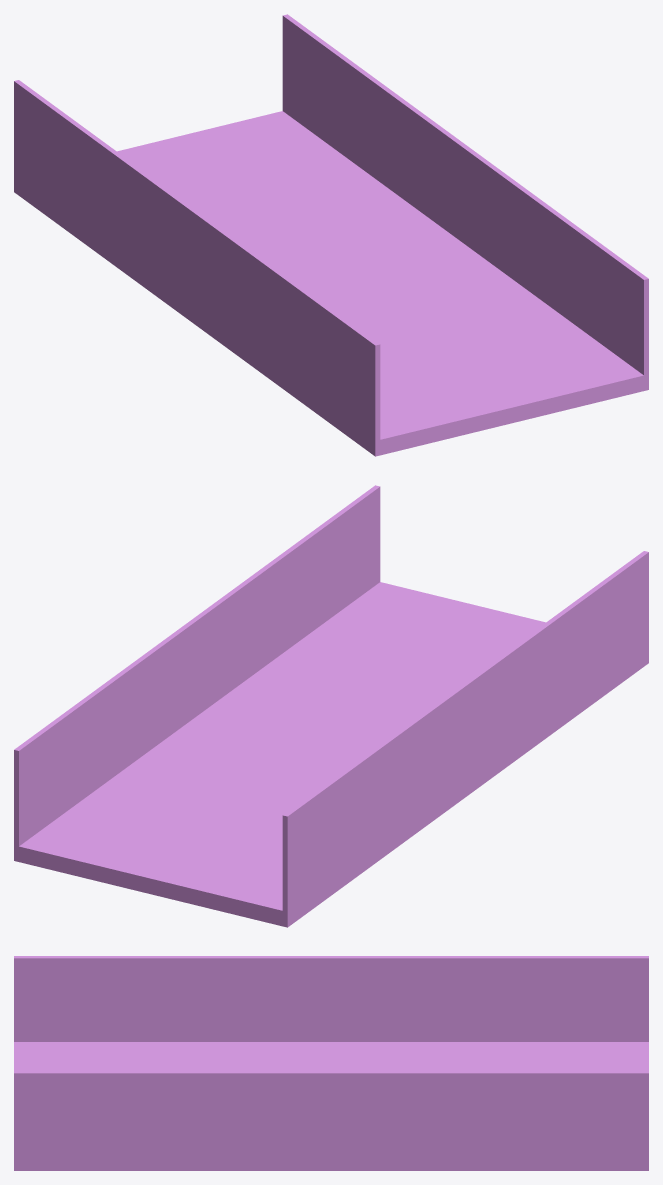
File: climb-5.glb
3 views of the same model, one above another, from view 1: azimuth 30°, elevation 25°; view 2: azimuth 150°, elevation 25°; view 3: azimuth 270°, elevation 25° (orthographic). The views are drawn at different scales.
Visible parts, largest first — view 1: climb-5; view 2: climb-5; view 3: climb-5.
Part boxes in pixels (x1,y1,x2,y2): climb-5: (14,14,648,456); climb-5: (14,485,648,927); climb-5: (14,956,648,1170).
Size of the model in its own units: 3.3 by 1.28 by 7.55.
1 material, 1 textured.
